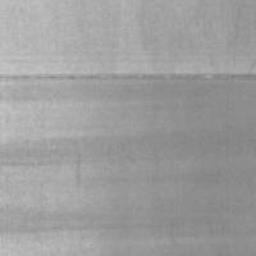Welding line: (0, 73, 256, 83)
